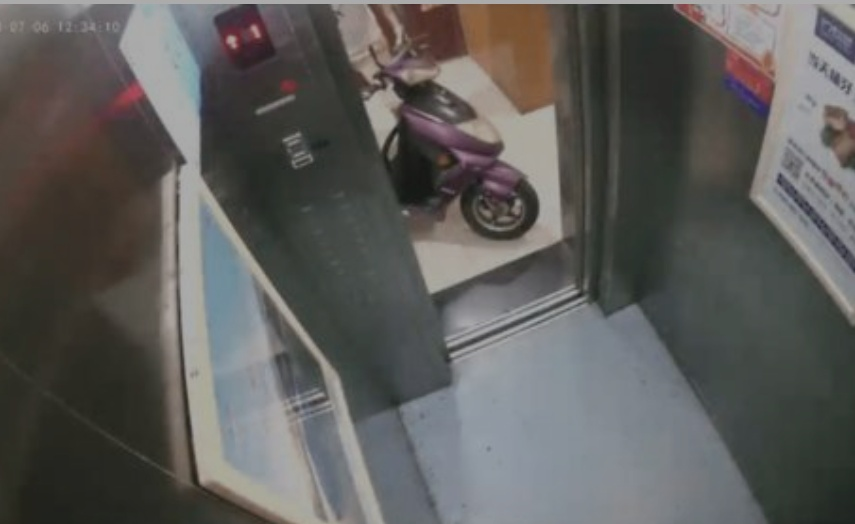ebike: (333, 29, 543, 241)
